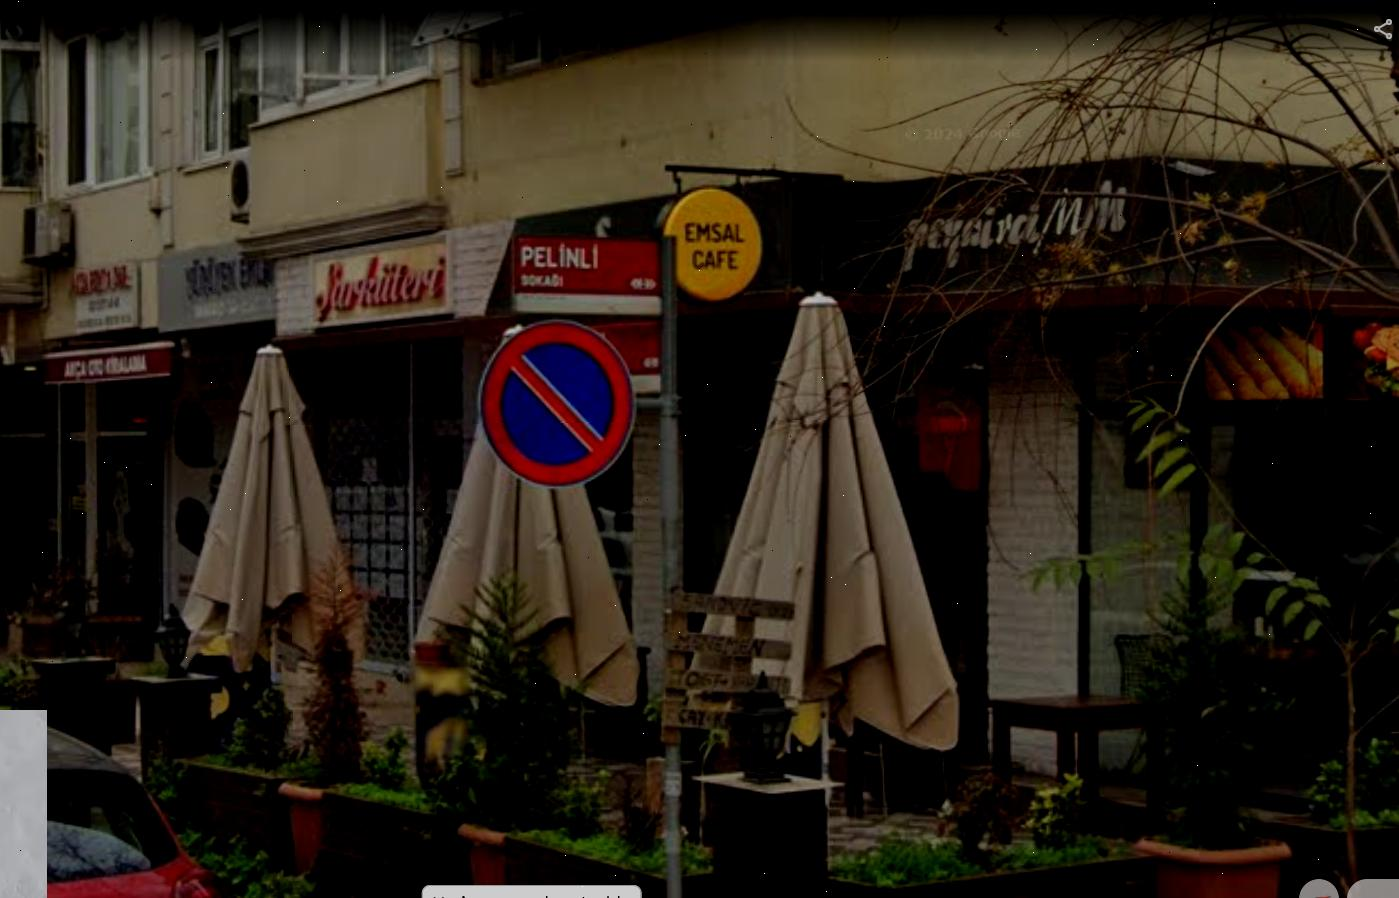nopark: (491, 318, 625, 475)
